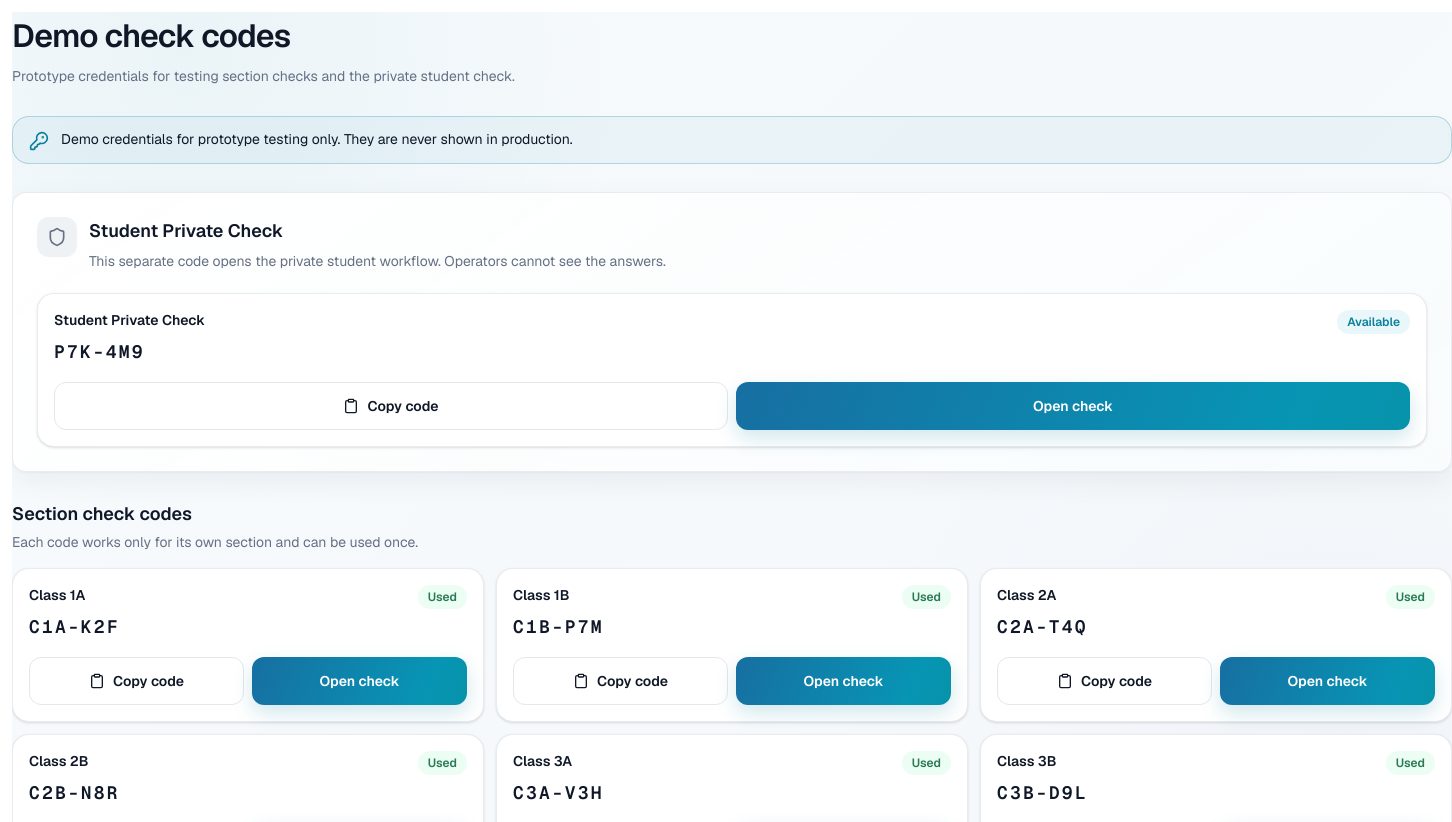
Test: demo code tools › copies a code without weakening its one-use status
Click the button "Copy code" below "P7K-4M9": click(391, 406) left=54, top=382, right=728, bottom=430
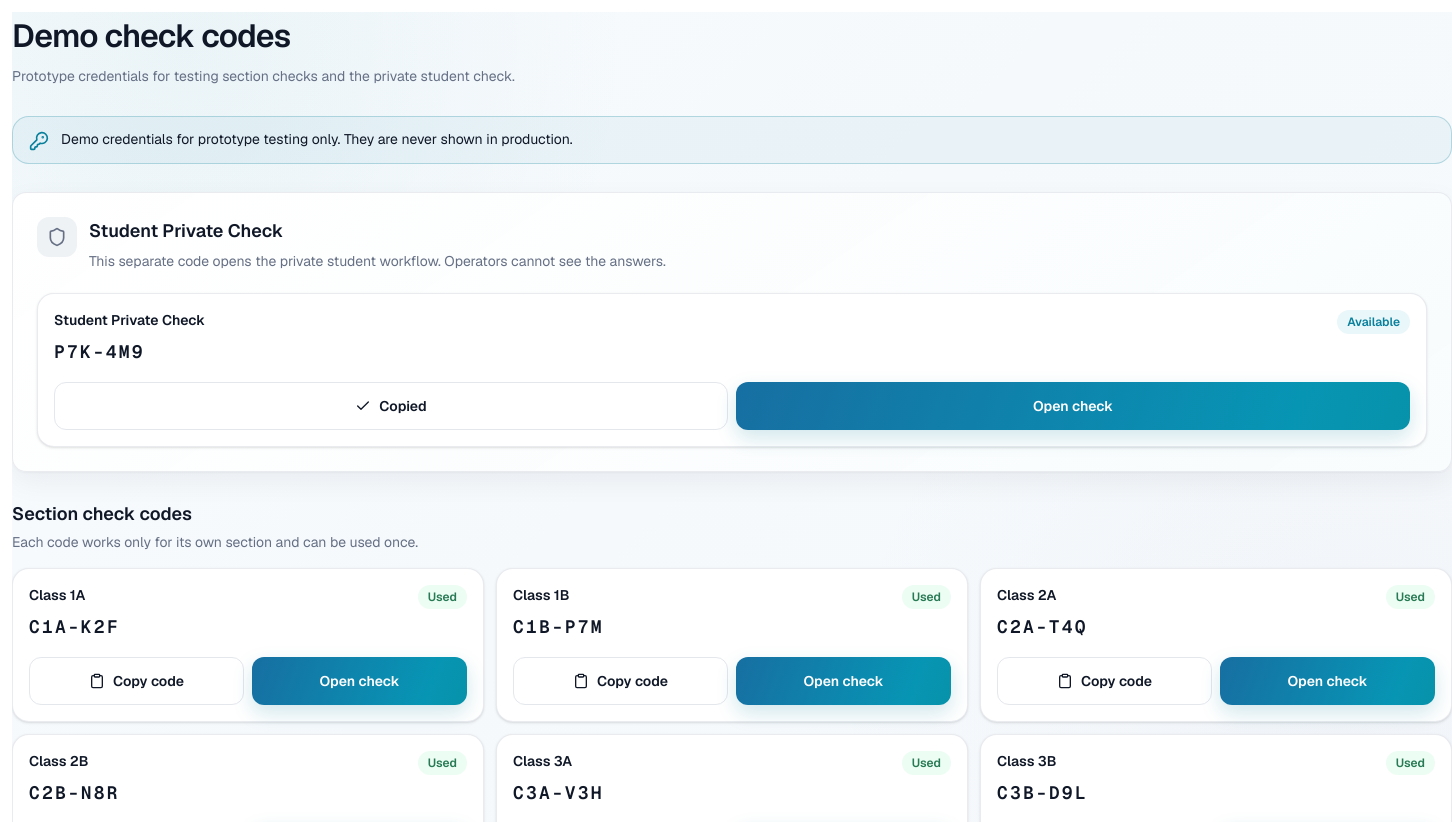
Now the button "Copied" is shown, box left=54, top=382, right=728, bottom=430
